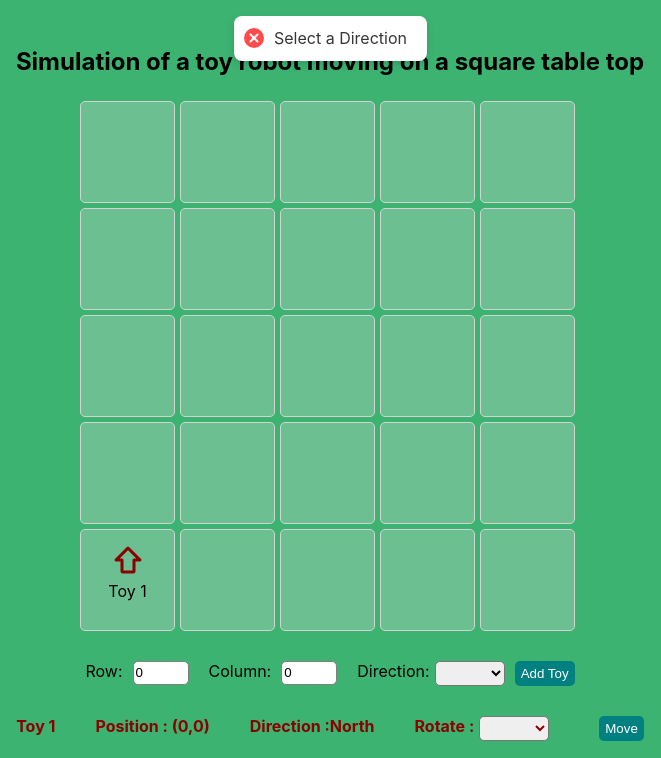
Test: Simulation of toy over square table top › renders error message when same location is selected
Select "North" in the dropdown with test id "select-direction". click: (470, 673)
box: [435, 661, 505, 686]
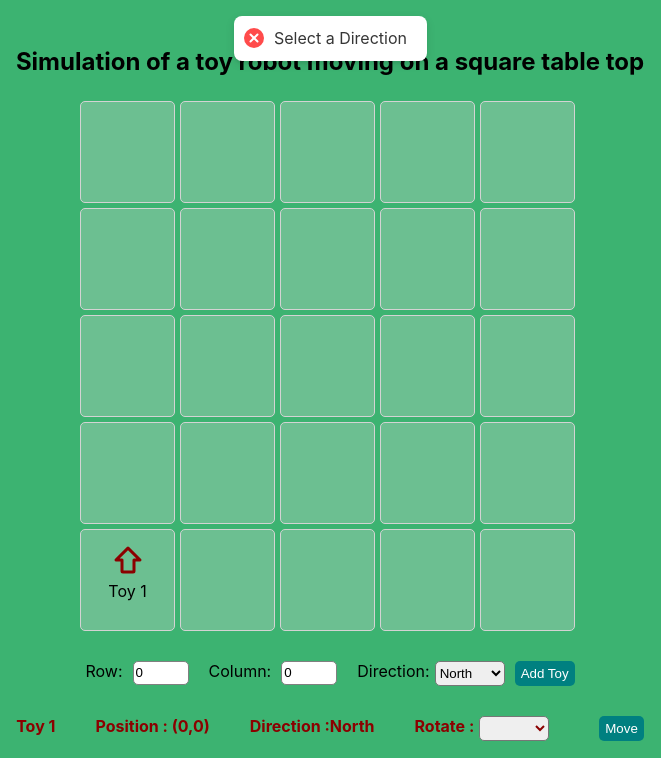
Click the button "Add Toy". click: (545, 673)
box: [515, 661, 574, 686]
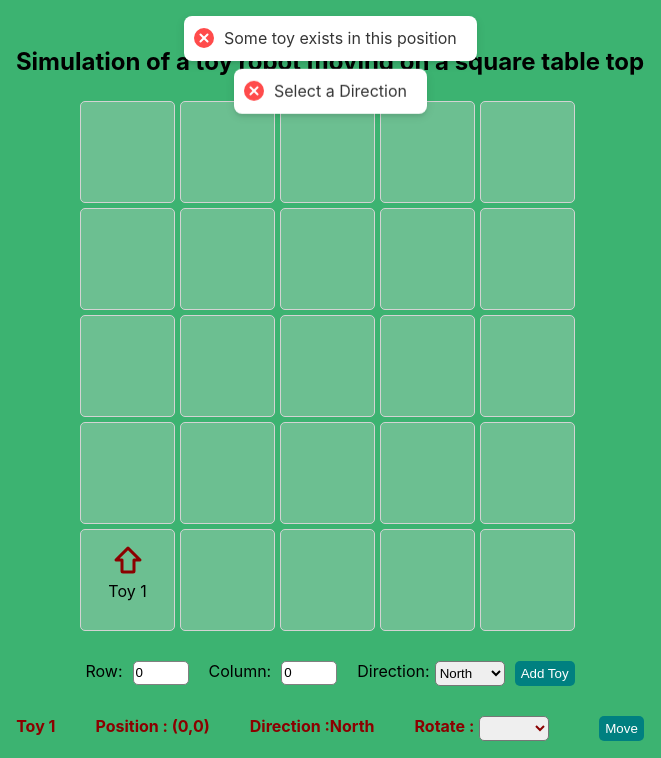
expect the text "Some toy exists in this position" is shown: met, box [224, 28, 456, 49]
